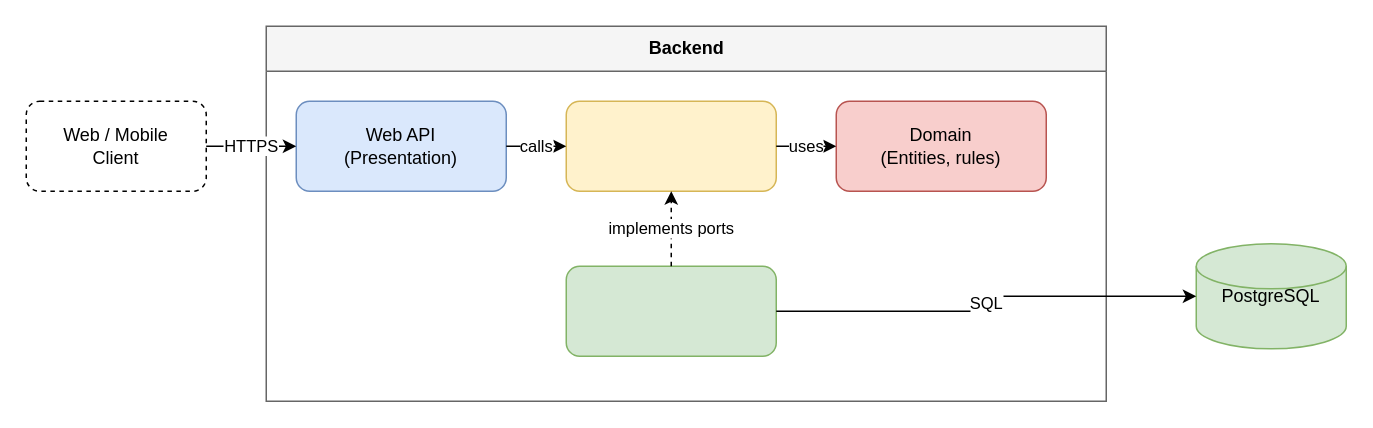
This 1373x428 diagram has some shape labels left out. Each missing label, with the centre of its shape:
"Application (Use cases, ports)" belongs at pixel 670 145.
"Infrastructure (EF Core)" belongs at pixel 670 310.
